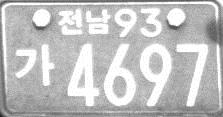3: (139, 7, 163, 38)
4: (66, 42, 99, 107)
6: (102, 42, 137, 106)
7: (174, 42, 209, 107)
9: (139, 42, 173, 106), (112, 7, 137, 38)
가: (14, 43, 55, 87)
전남_O: (57, 7, 111, 36)
